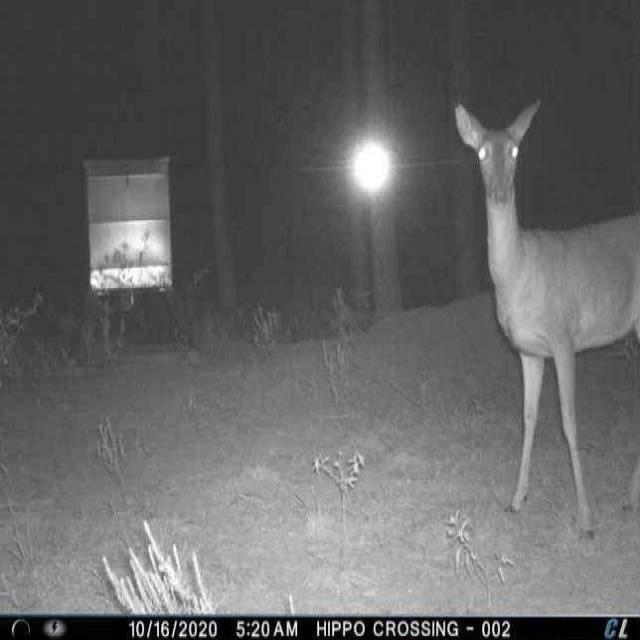deer: (449, 95, 639, 545)
